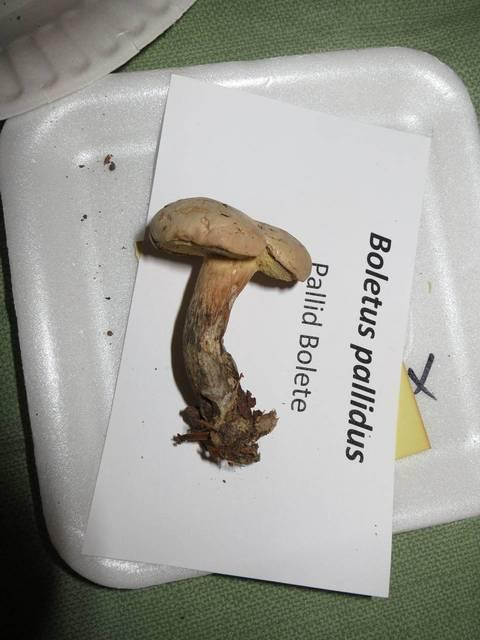edible_mushroom: (146, 195, 312, 467)
